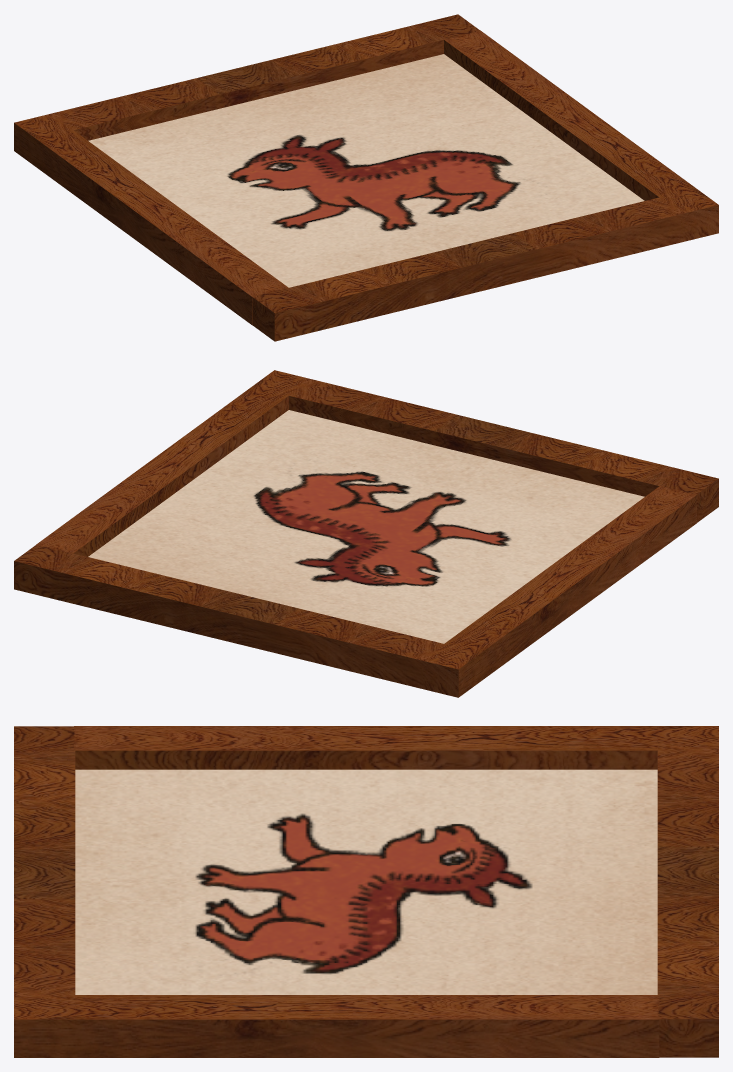
File: newfranciscoframe.glb
3 views of the same model, one above another, from view 1: azimuth 30°, elevation 25°; view 2: azimuth 150°, elevation 25°; view 3: azimuth 270°, elevation 25° (orthographic). The views are drawn at different scales.
Visible parts, largest first — view 1: Plane, Cube.001, Cube; view 2: Plane, Cube, Cube.001; view 3: Plane, Cube.001, Cube.
Part boxes in pixels (x1,y1,x2,y2): Plane: (88, 54, 644, 287); Cube.001: (252, 30, 718, 341); Cube: (14, 14, 480, 325); Plane: (88, 410, 644, 643); Cube: (14, 486, 696, 697); Cube.001: (36, 370, 718, 556); Plane: (75, 769, 657, 994); Cube.001: (14, 726, 659, 1057); Cube: (74, 726, 718, 1057).
Bounding box in the file's own units: 0.6743 × 0.0411 × 0.6847.
2 materials, 2 textured.
